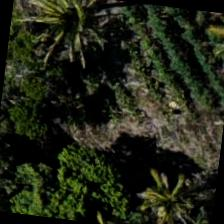Kelapa_Sawit: (104, 148, 204, 223), (22, 0, 121, 73)
